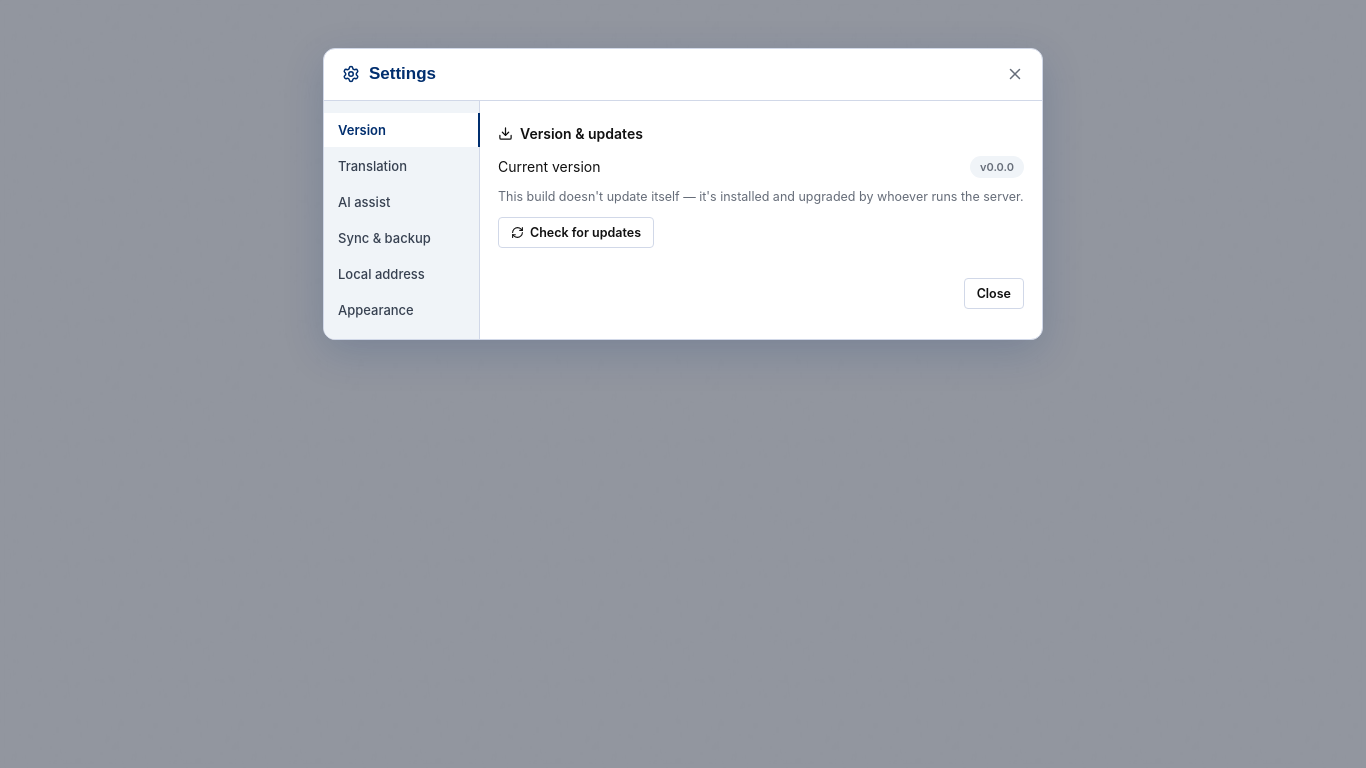
<SettingsModal> › "Save and test" saves the pending form BEFORE testing it
Step 1. Click the tab "Translation" → (402, 166), box [324,149,480,183]
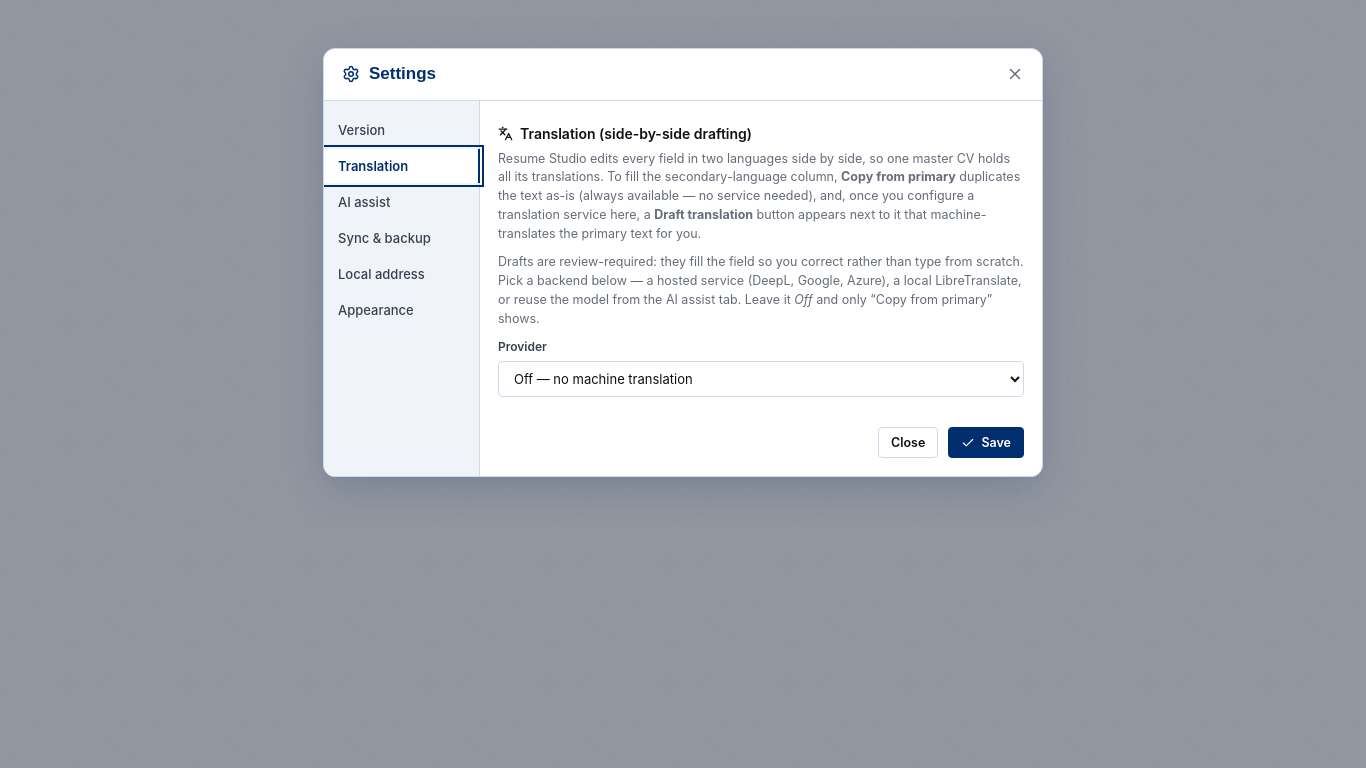
Step 2. Select "DeepL" in the dropdown named "Translation provider" → (761, 379), box [498,361,1024,397]
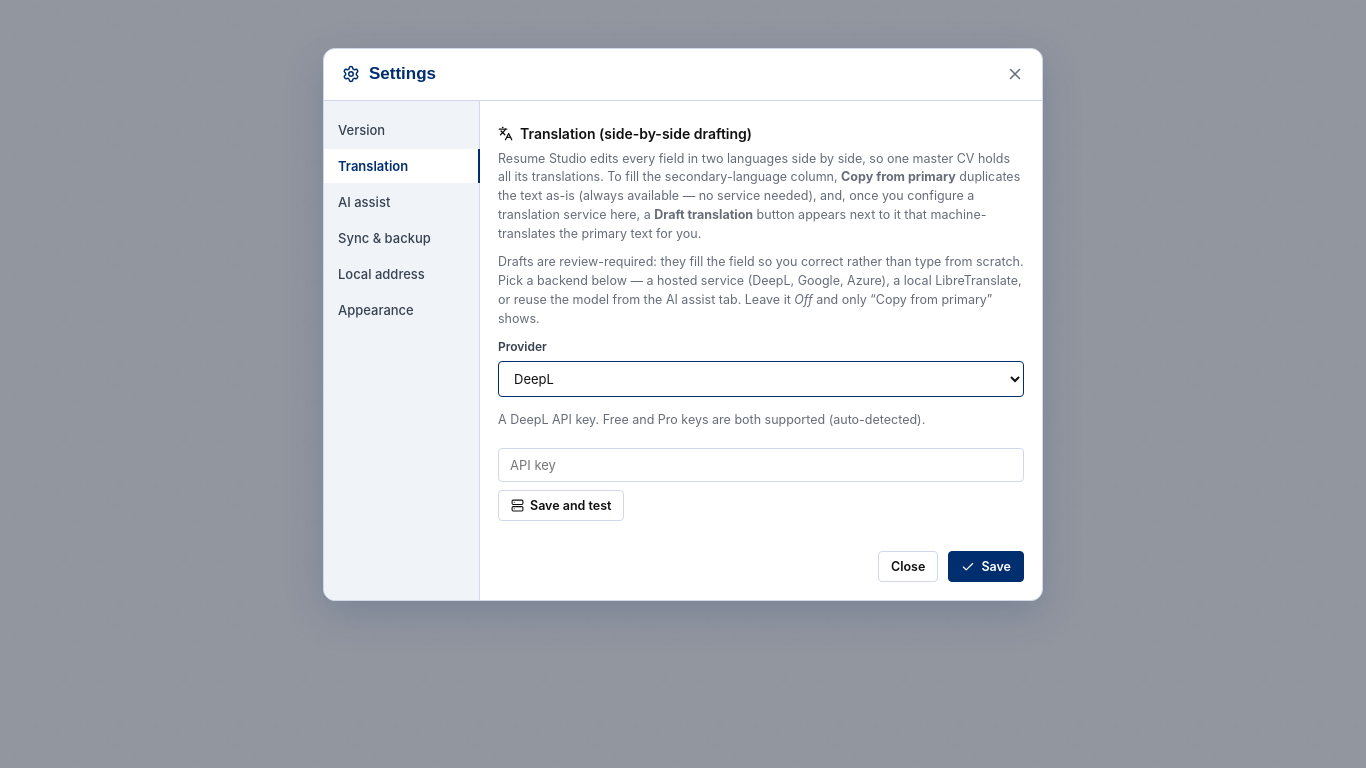
Step 3. Type "k:fx" into the password field named "DeepL API key" → (761, 465), box [498,448,1024,482]
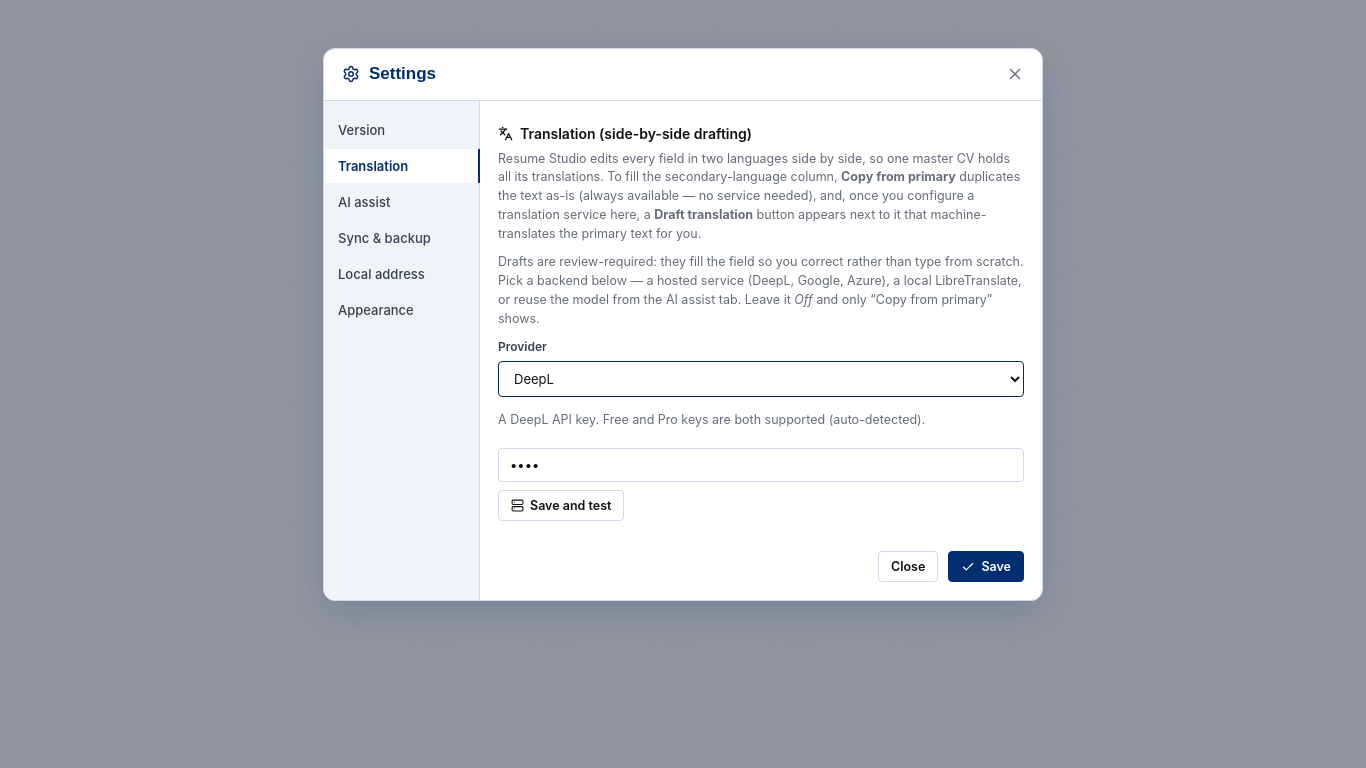
Step 4. Click the button "Save and test" → (561, 506), box [498,490,624,521]
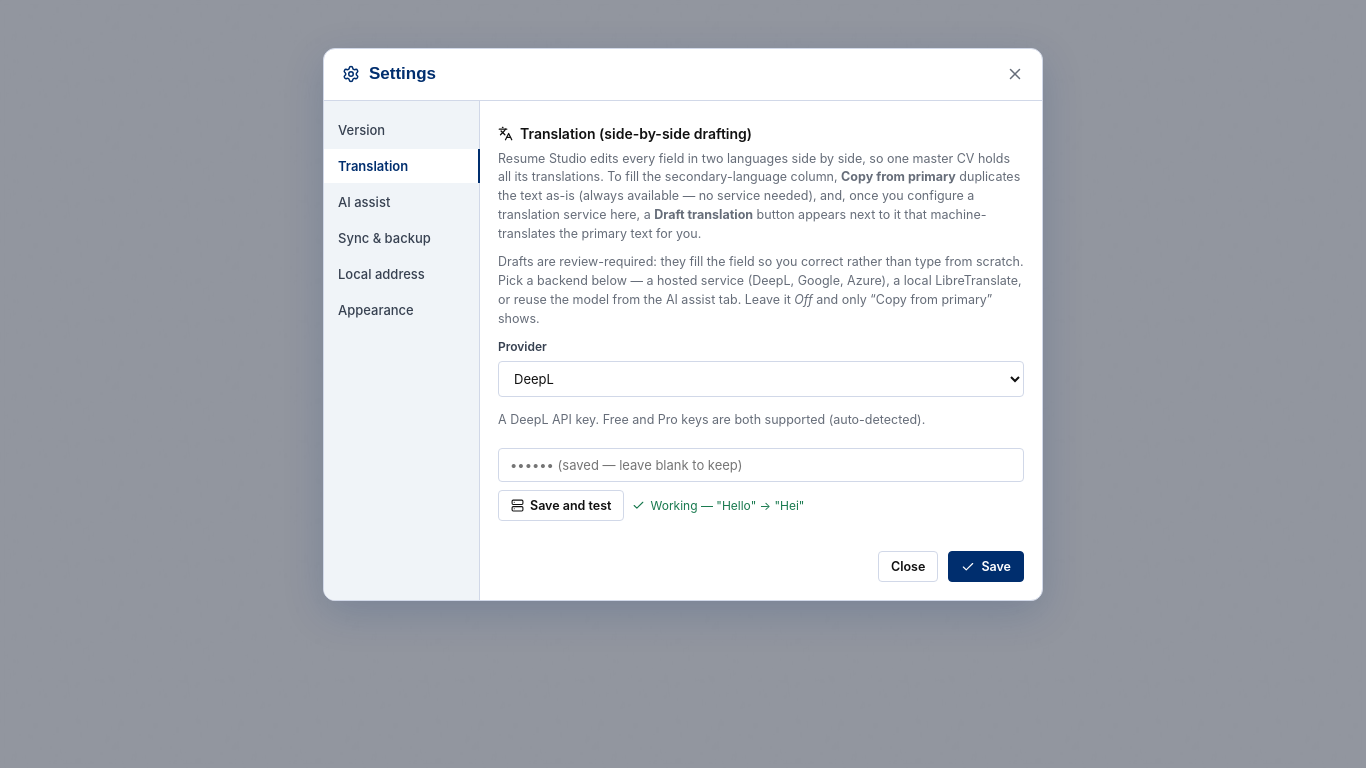
Check: the text "Working — \"Hello\" → \"Hei\"" is shown, box [632,497,804,515]
